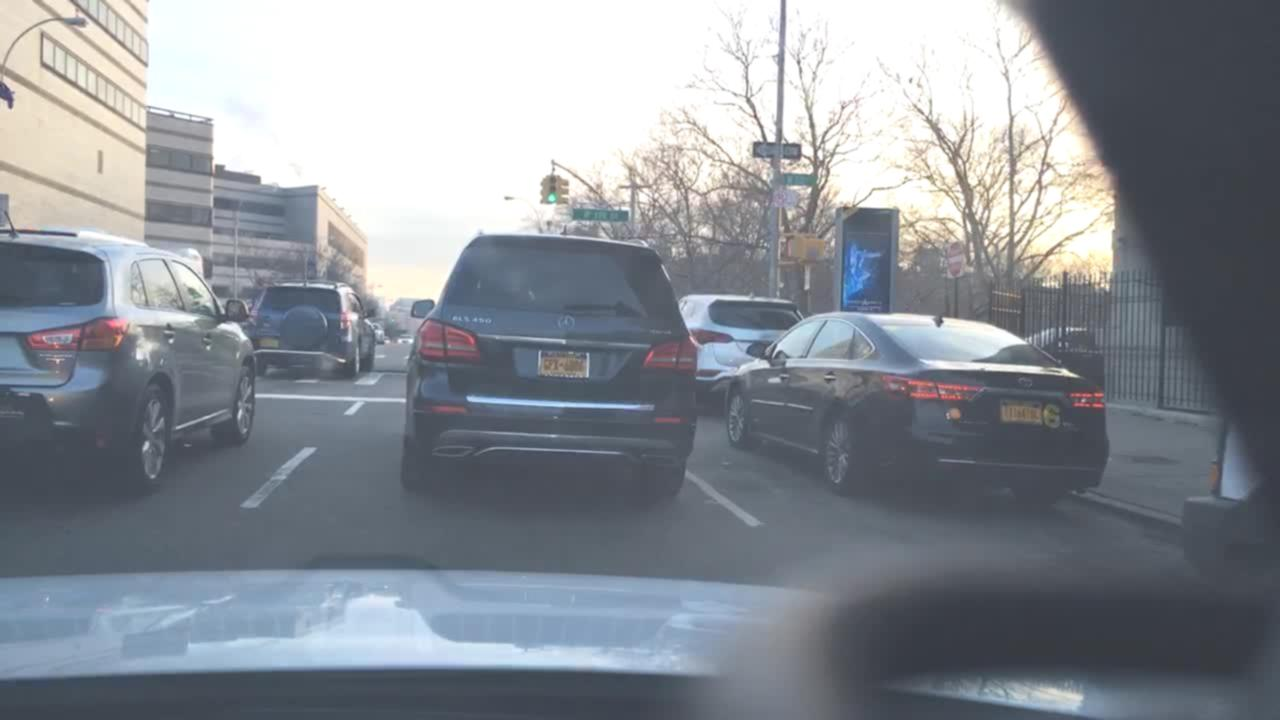Mercedes: (549, 306, 582, 335)
